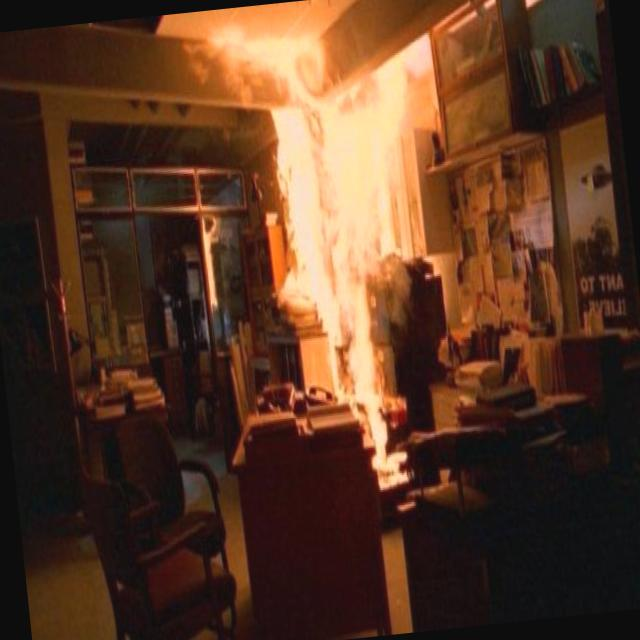fire: (203, 0, 484, 521)
